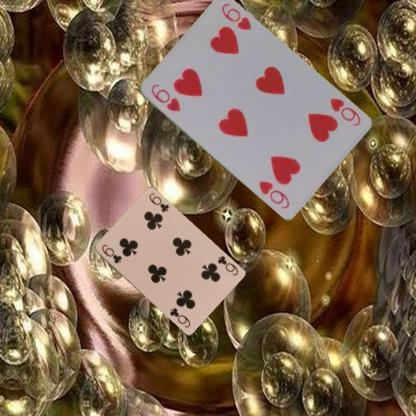6c: (214, 253, 239, 277), (99, 242, 122, 264)
6h: (326, 95, 362, 128), (148, 82, 181, 113)
